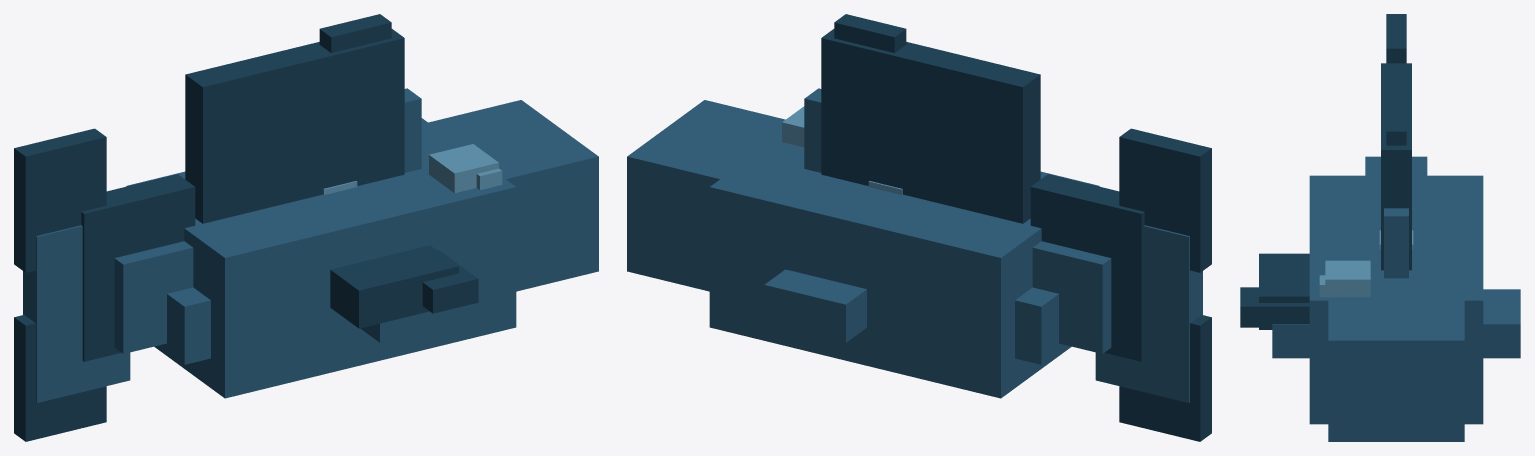
Rendered from fish_plaza_tuna.glb.
The picture shows the model from 3 angles, left to right: view 1: azimuth 30°, elevation 25°; view 2: azimuth 150°, elevation 25°; view 3: azimuth 270°, elevation 25°; orthographic projection. The views are drawn at different scales.
Parts seen in each view (by area): view 1: FishArt_body, FishArt_dorsal, FishArt_tail, FishArt_pectoral, FishArt_eye; view 2: FishArt_body, FishArt_dorsal, FishArt_tail, FishArt_eye; view 3: FishArt_body, FishArt_dorsal, FishArt_pectoral, FishArt_eye, FishArt_tail.
Part boxes in pixels (box(x1,y1,x2,y2)): FishArt_body: box(23, 88, 598, 402); FishArt_dorsal: box(185, 14, 404, 223); FishArt_tail: box(14, 128, 195, 441); FishArt_pectoral: box(330, 245, 478, 328); FishArt_eye: box(429, 144, 502, 193); FishArt_body: box(627, 88, 1202, 402); FishArt_dorsal: box(821, 14, 1040, 223); FishArt_tail: box(1030, 128, 1211, 441); FishArt_eye: box(782, 106, 804, 147); FishArt_body: box(1272, 156, 1520, 441); FishArt_dorsal: box(1381, 63, 1411, 270); FishArt_pectoral: box(1240, 253, 1309, 329); FishArt_eye: box(1319, 260, 1370, 297); FishArt_tail: box(1386, 14, 1406, 63).
Size of the model in its own units: 0.321 by 0.1875 by 0.1637.
